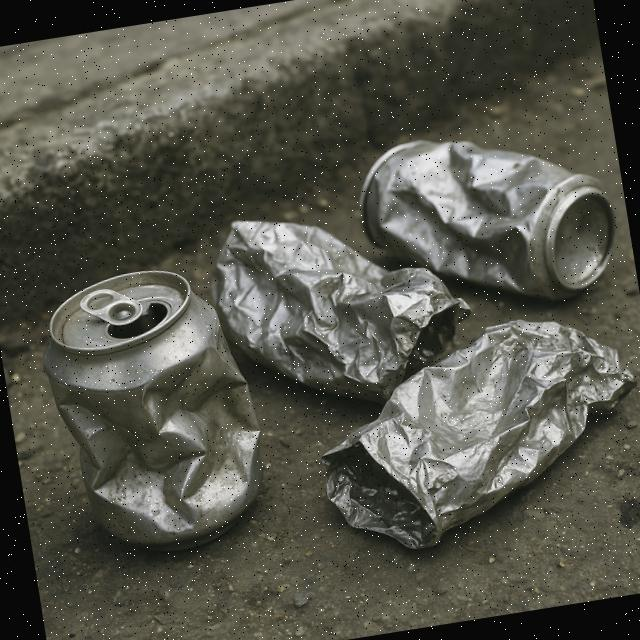aluminum: (297, 302, 640, 570), (30, 256, 273, 564), (349, 107, 628, 330), (198, 184, 459, 417)
